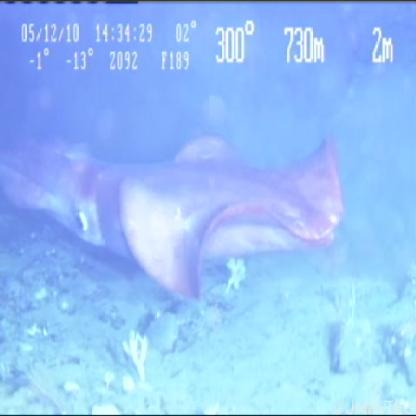Bio: (1, 124, 349, 310)
